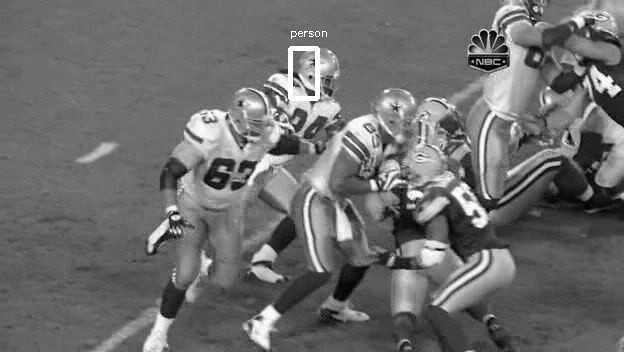person: (306, 49, 341, 93), (305, 49, 340, 93), (307, 49, 342, 93), (306, 48, 341, 92), (306, 50, 341, 94)
target_negative: (324, 98, 458, 347), (77, 241, 316, 302), (219, 326, 588, 341), (144, 331, 523, 338), (570, 159, 587, 285), (540, 101, 566, 102)
